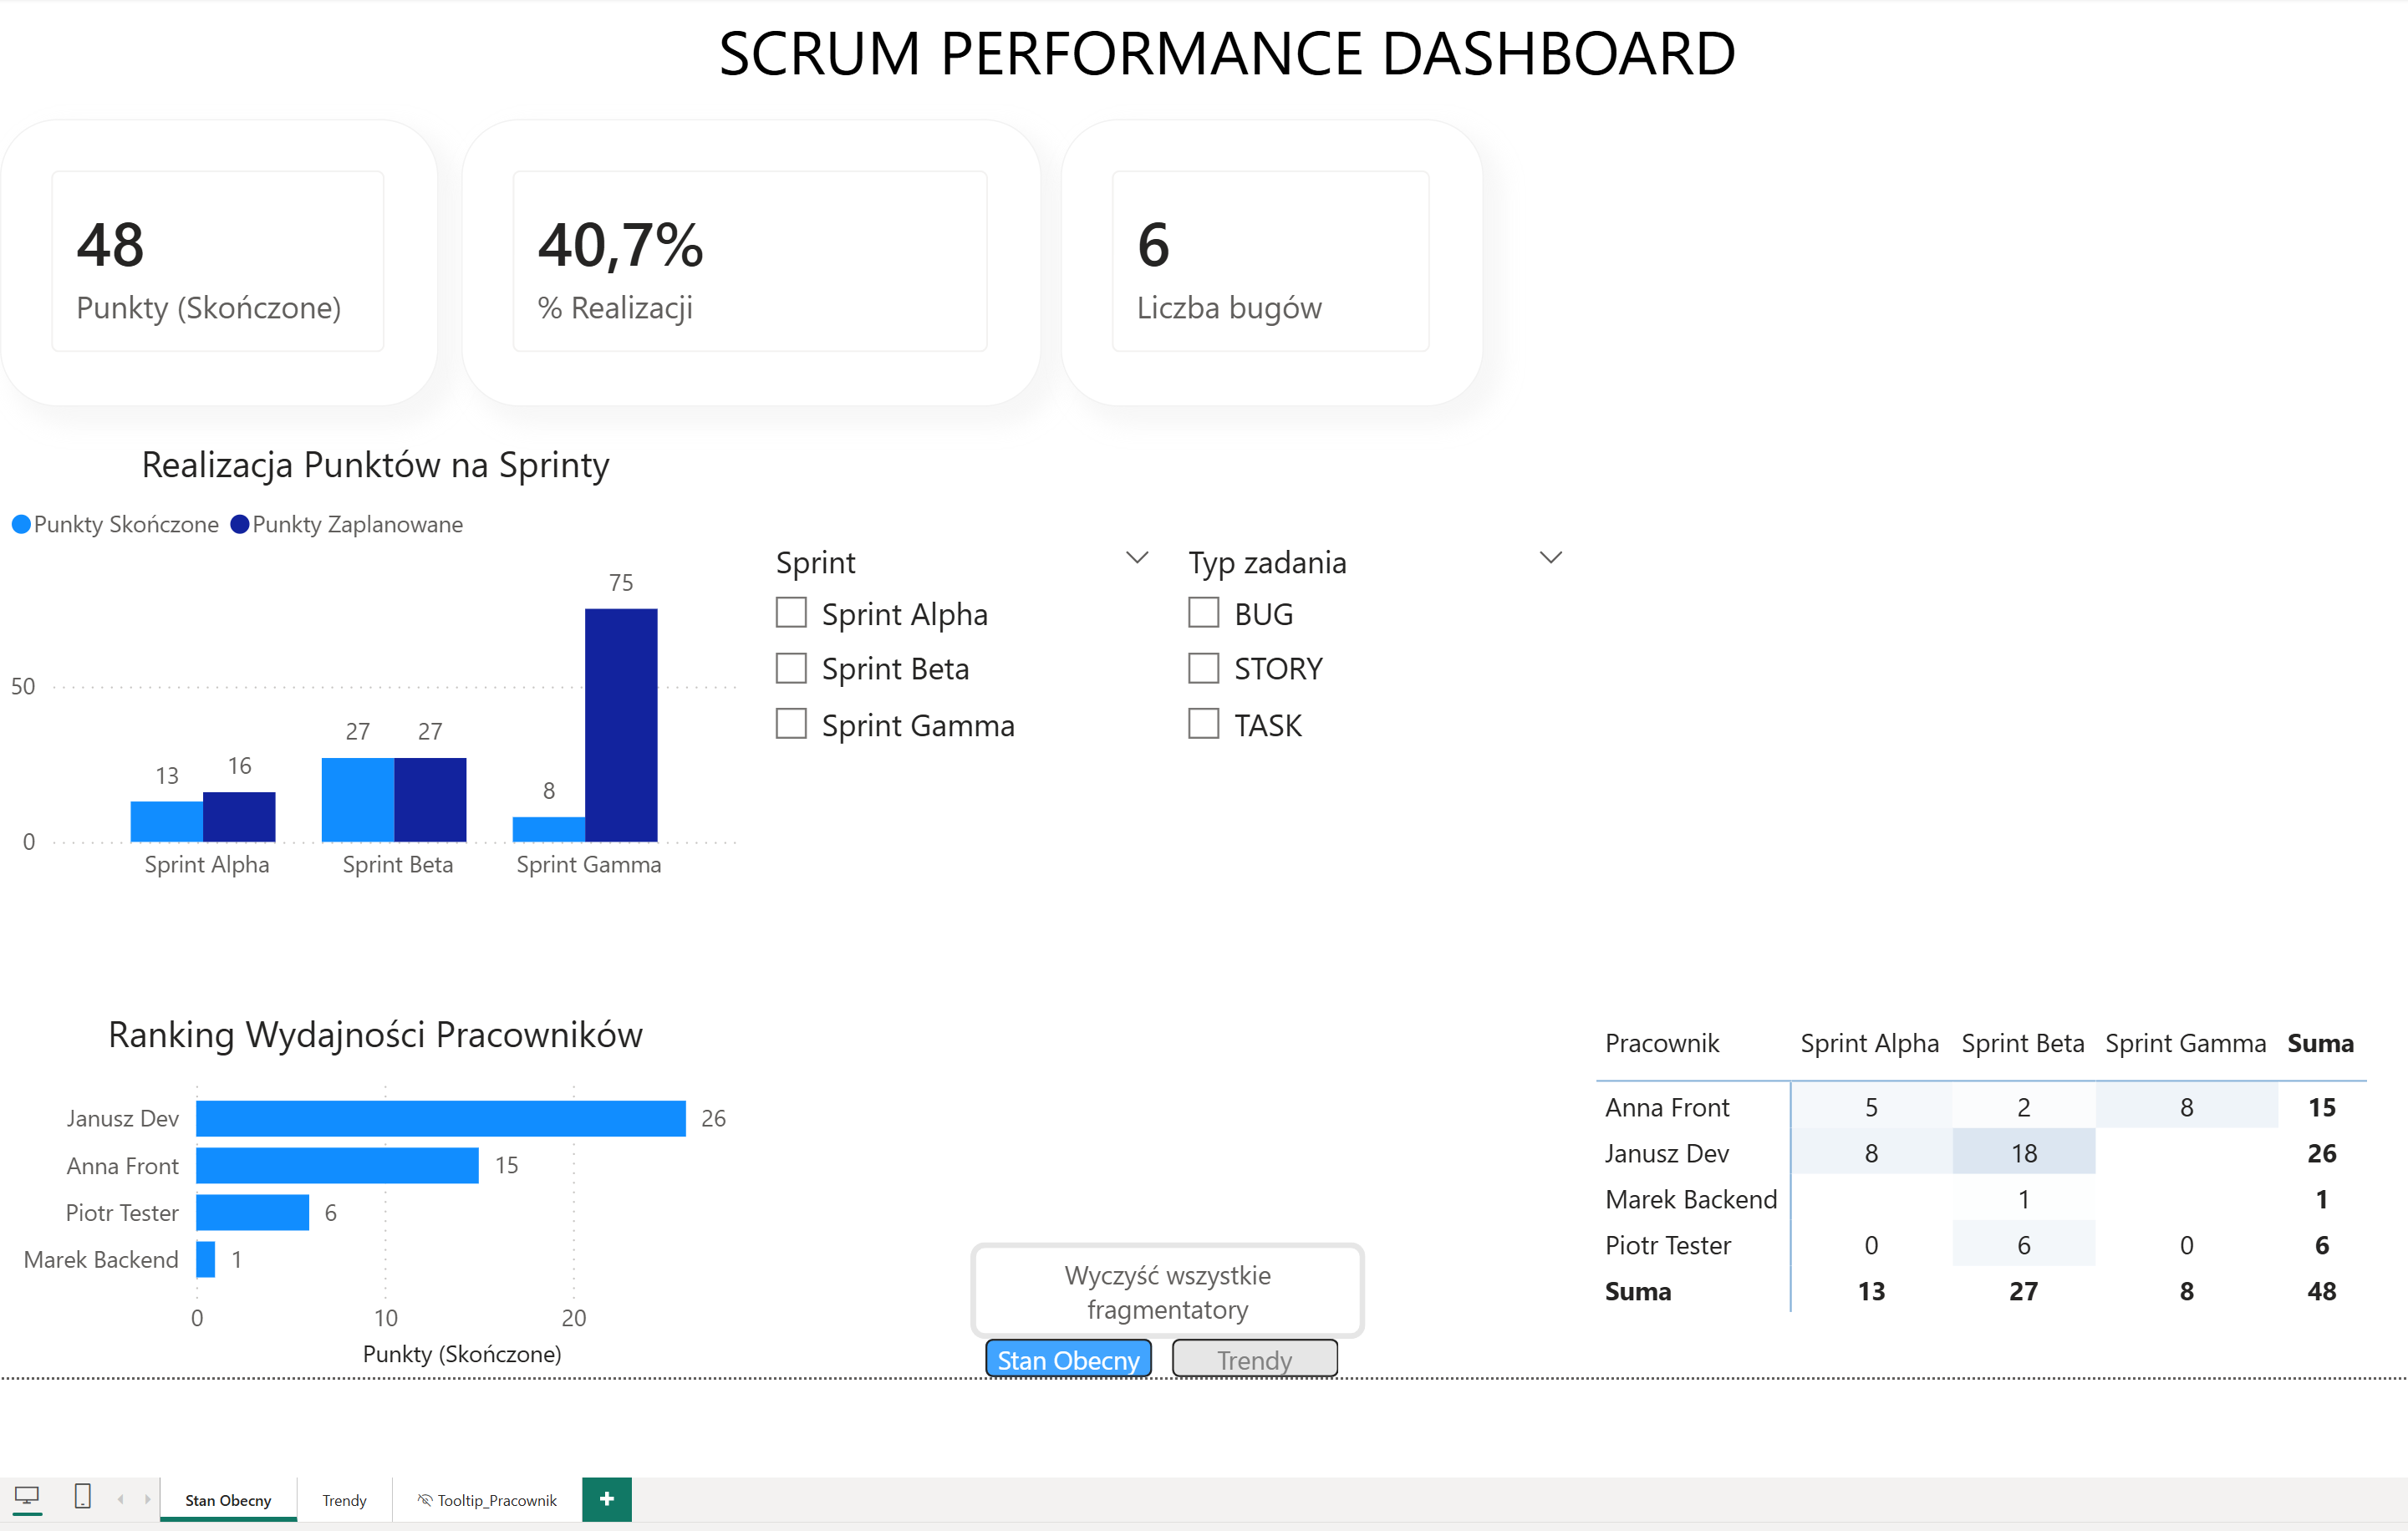

This screenshot's page, from the dashboard's own definition file:
{"tool":"powerbi","page":{"name":"Stan Obecny","canvas":[1280,720],"ordinal":0},"visuals":[{"type":"textbox","box":[322.8,0,634.7,56.9],"z":0},{"type":"cardVisual","title":"Punkty wykonane","fields":{"Data":["_Miary.Done SP"]},"box":[0,63.4,228.4,149.9],"z":1000,"group":"g1"},{"type":"clusteredColumnChart","title":"Realizacja Punktów na Sprinty","fields":{"Category":["sprinty.nazwa"],"Y":["_Miary.Done SP","_Miary.Total SP"]},"box":[0,230.2,391.7,240],"z":1000},{"type":"cardVisual","title":"% Skuteczności","fields":{"Data":["_Miary.% Success"]},"box":[240.6,63.4,302.6,149.9],"z":2000,"group":"g1"},{"type":"barChart","title":"Ranking Wydajności Pracowników","fields":{"Category":["zadania.przypisany_do"],"Y":["_Miary.Done SP"]},"box":[0,527.7,391.7,192.3],"z":2000},{"type":"cardVisual","title":"Liczba Błędów","fields":{"Data":["_Miary.Bug Count"]},"box":[553.3,63.4,220.5,149.9],"z":3000,"group":"g1"},{"type":"slicer","fields":{"Values":["sprinty.nazwa"]},"box":[391.7,277.9,220.4,191.6],"z":3000},{"type":"slicer","fields":{"Values":["zadania.typ"]},"box":[606.9,277.9,221,192.3],"z":4000},{"type":"group","id":"g1","title":"Grupa 1","box":[0,63.4,773.8,149.9],"z":5000},{"type":"pivotTable","fields":{"Rows":["zadania.przypisany_do"],"Columns":["sprinty.nazwa"],"Values":["_Miary.Done SP"]},"box":[827.3,527.7,452.5,192.3],"z":6000},{"type":"pageNavigator","box":[514,699.7,185.1,20.3],"z":7000},{"type":"actionButton","box":[506.5,649.1,206,50.4],"z":8000}]}

Visuals, with their boxes on the page's 1280x720 design canvas (x1, y1, x2, y2). These are canvas units, not pixel positions in the 2408x1531 screenshot, which may show the page scaled, cropped or inside an application window:
textbox: 323, 0, 958, 57
"Punkty wykonane" cardVisual: 0, 63, 228, 213
"Realizacja Punktów na Sprinty" clusteredColumnChart: 0, 230, 392, 470
"% Skuteczności" cardVisual: 241, 63, 543, 213
"Ranking Wydajności Pracowników" barChart: 0, 528, 392, 720
"Liczba Błędów" cardVisual: 553, 63, 774, 213
slicer - sprinty.nazwa: 392, 278, 612, 470
slicer - zadania.typ: 607, 278, 828, 470
"Grupa 1" group: 0, 63, 774, 213
pivotTable - zadania.przypisany_do x sprinty.nazwa: 827, 528, 1280, 720
pageNavigator: 514, 700, 699, 720
actionButton: 506, 649, 712, 700
